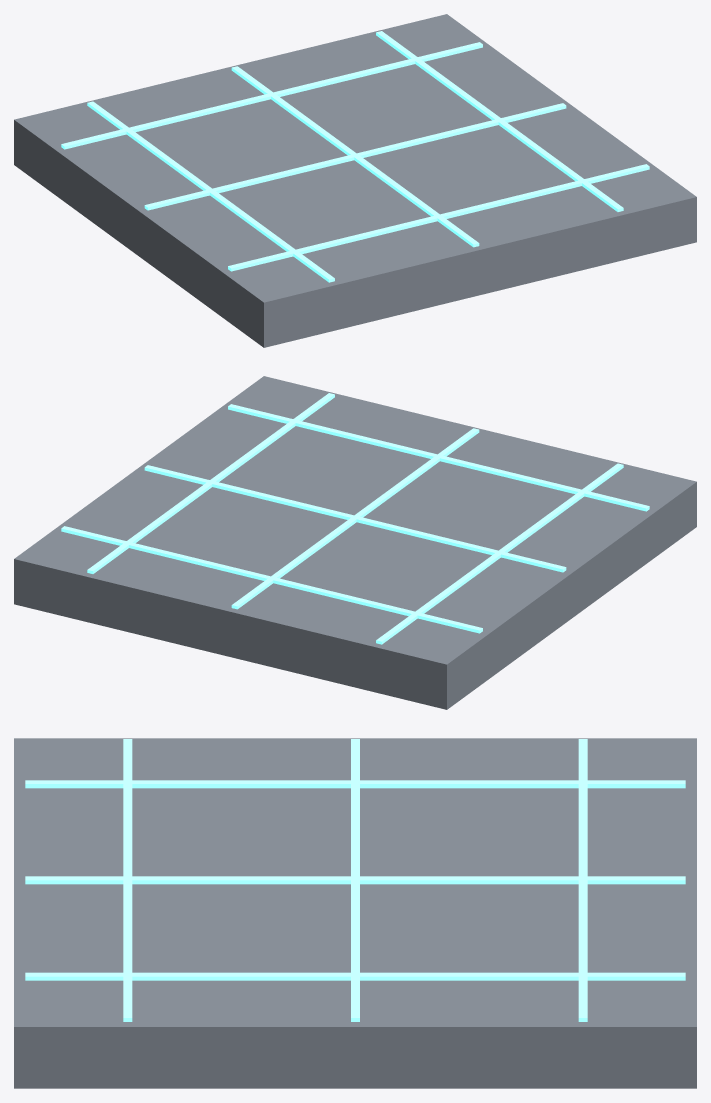
The model's file is deck_tile.glb.
The picture shows the model from 3 angles, top to bottom: view 1: azimuth 30°, elevation 25°; view 2: azimuth 150°, elevation 25°; view 3: azimuth 270°, elevation 25°; orthographic projection. The views are drawn at different scales.
Parts seen in each view (by area): view 1: Cube, Cube.003, Cube.001, Cube.005, Cube.002, Cube.004, Cube.006; view 2: Cube, Cube.001, Cube.003, Cube.005, Cube.002, Cube.004, Cube.006; view 3: Cube, Cube.002, Cube.004, Cube.006, Cube.001, Cube.005, Cube.003.
Part boxes in pixels (x1=…): Cube: x1=14, y1=14, x2=696, y2=347; Cube.003: x1=144, y1=103, x2=566, y2=210; Cube.001: x1=228, y1=164, x2=649, y2=271; Cube.005: x1=61, y1=42, x2=482, y2=149; Cube.002: x1=87, y1=101, x2=334, y2=282; Cube.004: x1=231, y1=66, x2=479, y2=247; Cube.006: x1=376, y1=31, x2=623, y2=211; Cube: x1=14, y1=376, x2=696, y2=709; Cube.001: x1=228, y1=404, x2=649, y2=511; Cube.003: x1=144, y1=465, x2=566, y2=572; Cube.005: x1=61, y1=526, x2=482, y2=633; Cube.002: x1=376, y1=463, x2=623, y2=644; Cube.004: x1=231, y1=428, x2=479, y2=609; Cube.006: x1=87, y1=393, x2=334, y2=573; Cube: x1=14, y1=738, x2=696, y2=1088; Cube.002: x1=25, y1=780, x2=685, y2=788; Cube.004: x1=25, y1=876, x2=685, y2=884; Cube.006: x1=25, y1=972, x2=685, y2=980; Cube.001: x1=123, y1=739, x2=132, y2=1021; Cube.005: x1=578, y1=739, x2=587, y2=1021; Cube.003: x1=351, y1=739, x2=359, y2=1021.
Size of the model in its own units: 3 by 0.32 by 3.
